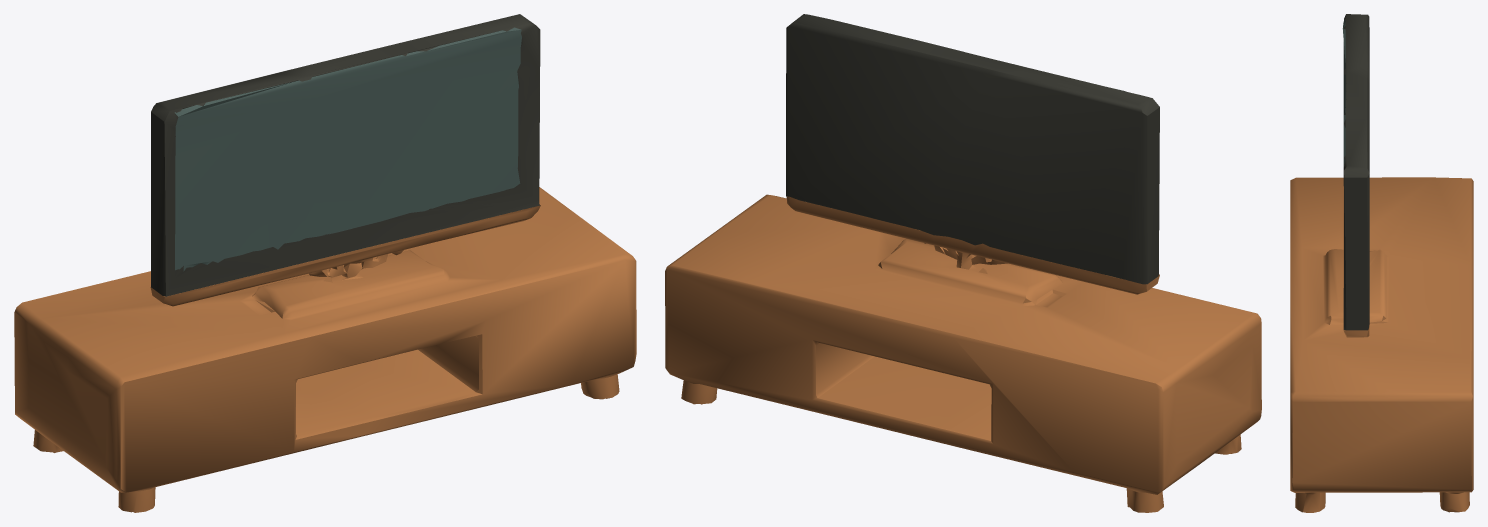
File: tvStand.glb
3 renders of one model, left to right at view 1: azimuth 30°, elevation 25°; view 2: azimuth 150°, elevation 25°; view 3: azimuth 270°, elevation 25°, orthographic. The views are drawn at different scales.
Visible parts, largest first — view 1: tvStand_wood, tvStand_screen, tvStand_tv; view 2: tvStand_wood, tvStand_tv; view 3: tvStand_wood, tvStand_tv, tvStand_screen.
Boxes of the visible parts, box(x1,y1,x2,y2) form: tvStand_wood: box(14, 187, 636, 512); tvStand_screen: box(174, 27, 521, 271); tvStand_tv: box(151, 14, 540, 296); tvStand_wood: box(665, 194, 1261, 512); tvStand_tv: box(786, 14, 1159, 284); tvStand_wood: box(1290, 177, 1473, 512); tvStand_tv: box(1343, 14, 1369, 330); tvStand_screen: box(1342, 18, 1345, 166).
Bounding box in the file's own units: 1.85 × 1.25 × 0.6496.
